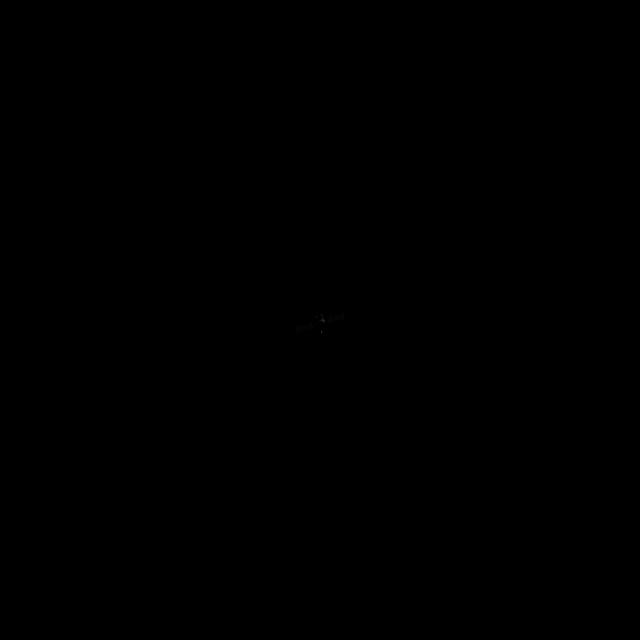satellite: (293, 306, 350, 344)
